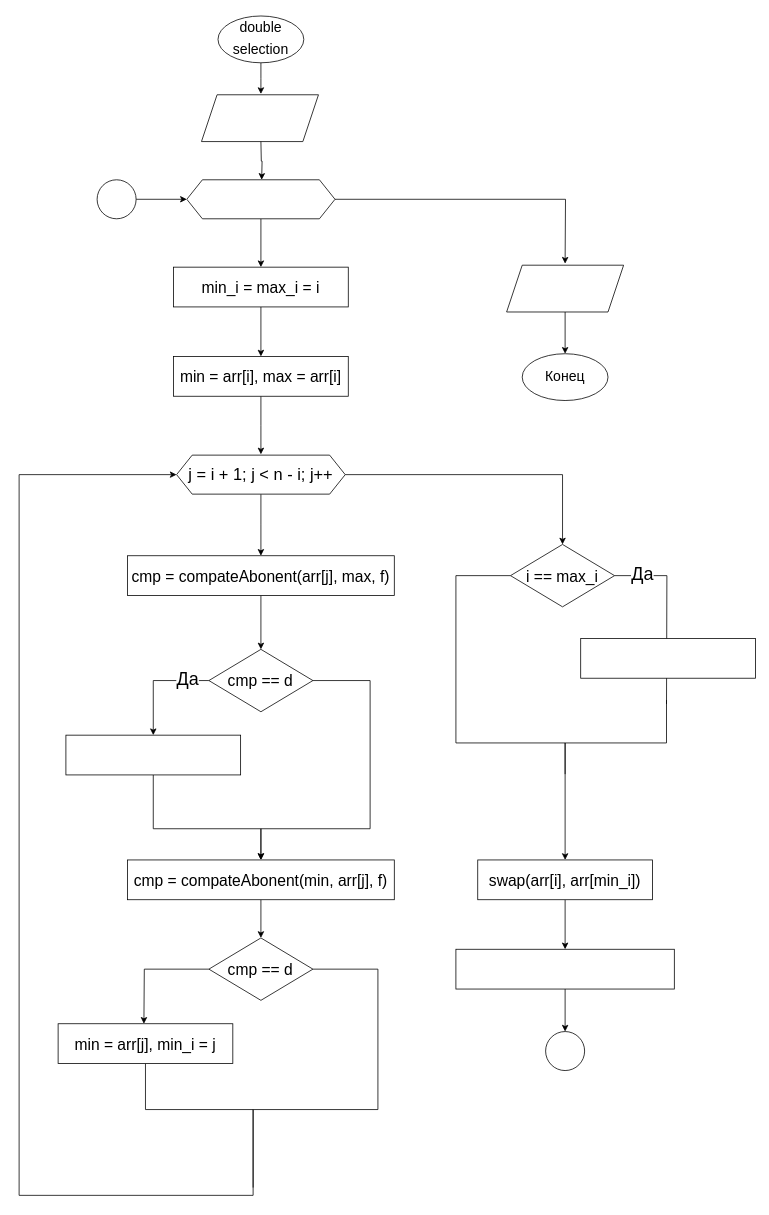
The diagram is 769 pixels wide and 1215 high, and some of its shapes have lost their labels. Here are the shapes that lost their labels. From the top down, the centre of each, then its label:
[259,118]: Ввод arr, n, f, d
[260,199]: i = 0, i < n / 2, i++
[565,288]: Вывод arr
[667,658]: max_i = min_i
[153,754]: max = arr[j], max_i = j
[564,968]: swap(arr[n - i - 1], arr[max_i])
